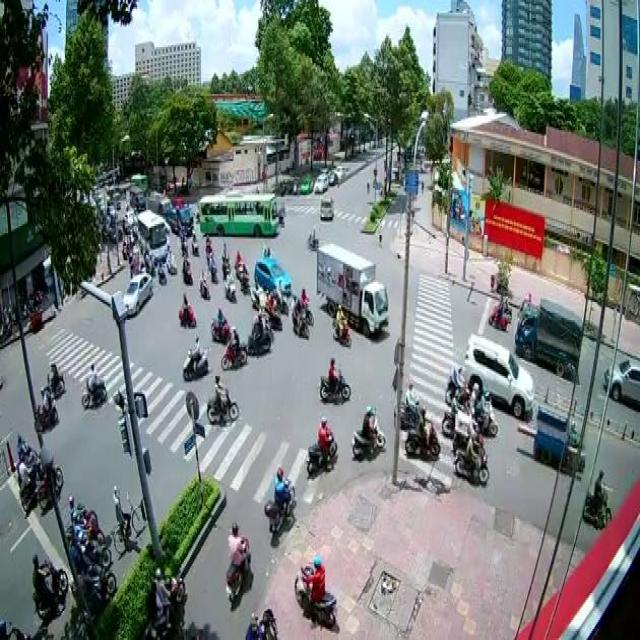bicycle: (112, 483, 144, 557)
bus: (199, 192, 279, 233), (136, 208, 169, 262)
car: (462, 331, 534, 419), (601, 358, 639, 401), (254, 256, 291, 296), (121, 269, 152, 313)
motorcycle: (263, 465, 296, 537), (452, 425, 490, 483), (223, 521, 250, 602), (349, 403, 385, 461), (403, 405, 441, 459), (305, 414, 337, 475), (205, 372, 239, 422), (318, 356, 351, 403), (219, 326, 248, 372), (80, 362, 107, 411), (182, 334, 208, 382), (330, 300, 351, 349), (177, 291, 197, 327)
truck: (315, 238, 389, 330), (514, 295, 582, 378)
